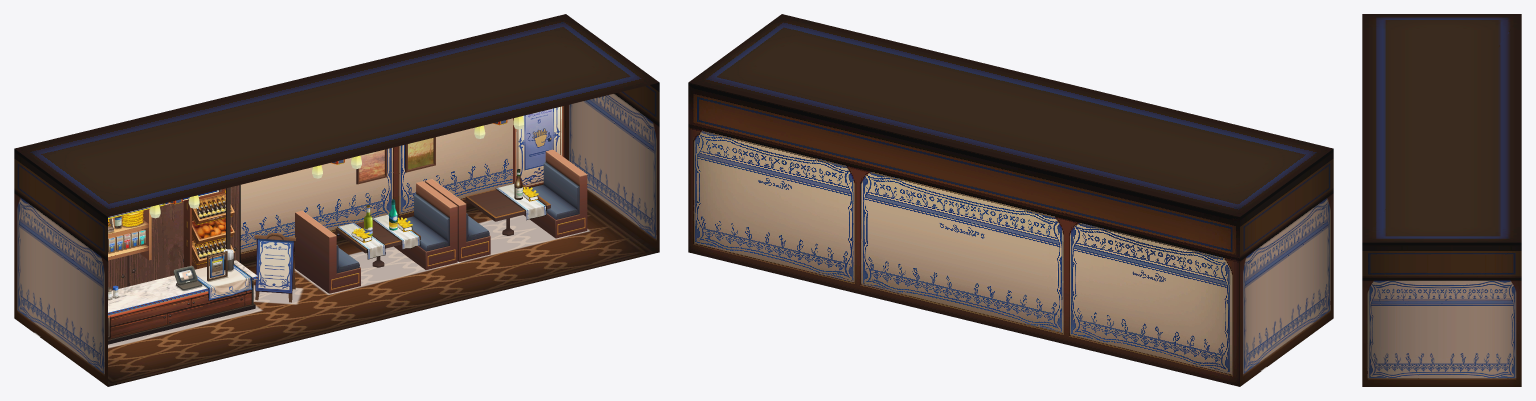
File: beerhouse.glb
3 renders of one model, left to right at view 1: azimuth 30°, elevation 25°; view 2: azimuth 150°, elevation 25°; view 3: azimuth 270°, elevation 25°, orthographic. The views are drawn at different scales.
Visible parts, largest first — view 1: ROOM_room, ROOM_floor, furni_beerhouse_diningTable1_01, furni_beerhouse_diningTable2_01, furni_beerhouse_cashierDesk_01, furni_beerhouse_wallSticker_01, furni_beerhouse_banner2_01, furni_beerhouse_wineRack_01, furni_beerhouse_banner1_02, shadow_01.005, shadow_01.004, ROOM_LDoor (+11 smaller); view 2: ROOM_room, ROOM_LDoor; view 3: ROOM_room, ROOM_RDoor.
Boxes of the visible parts, x1,y1,x2,y2 form: ROOM_room: [14, 14, 659, 386]; ROOM_floor: [108, 199, 659, 386]; furni_beerhouse_diningTable1_01: [295, 181, 457, 293]; furni_beerhouse_diningTable2_01: [425, 149, 587, 261]; furni_beerhouse_cashierDesk_01: [108, 249, 257, 344]; furni_beerhouse_wallSticker_01: [108, 185, 240, 290]; furni_beerhouse_banner2_01: [513, 106, 563, 186]; furni_beerhouse_wineRack_01: [183, 188, 234, 269]; furni_beerhouse_banner1_02: [255, 238, 294, 293]; shadow_01.005: [457, 215, 589, 262]; shadow_01.004: [294, 246, 459, 294]; ROOM_LDoor: [75, 286, 94, 376]; ROOM_room: [688, 14, 1333, 386]; ROOM_LDoor: [1300, 251, 1319, 341]; ROOM_room: [1362, 14, 1521, 386]; ROOM_RDoor: [1385, 321, 1418, 386].
Size of the model in its own units: 7.58 by 2.2 by 2.2.
5 materials, 5 textured.
